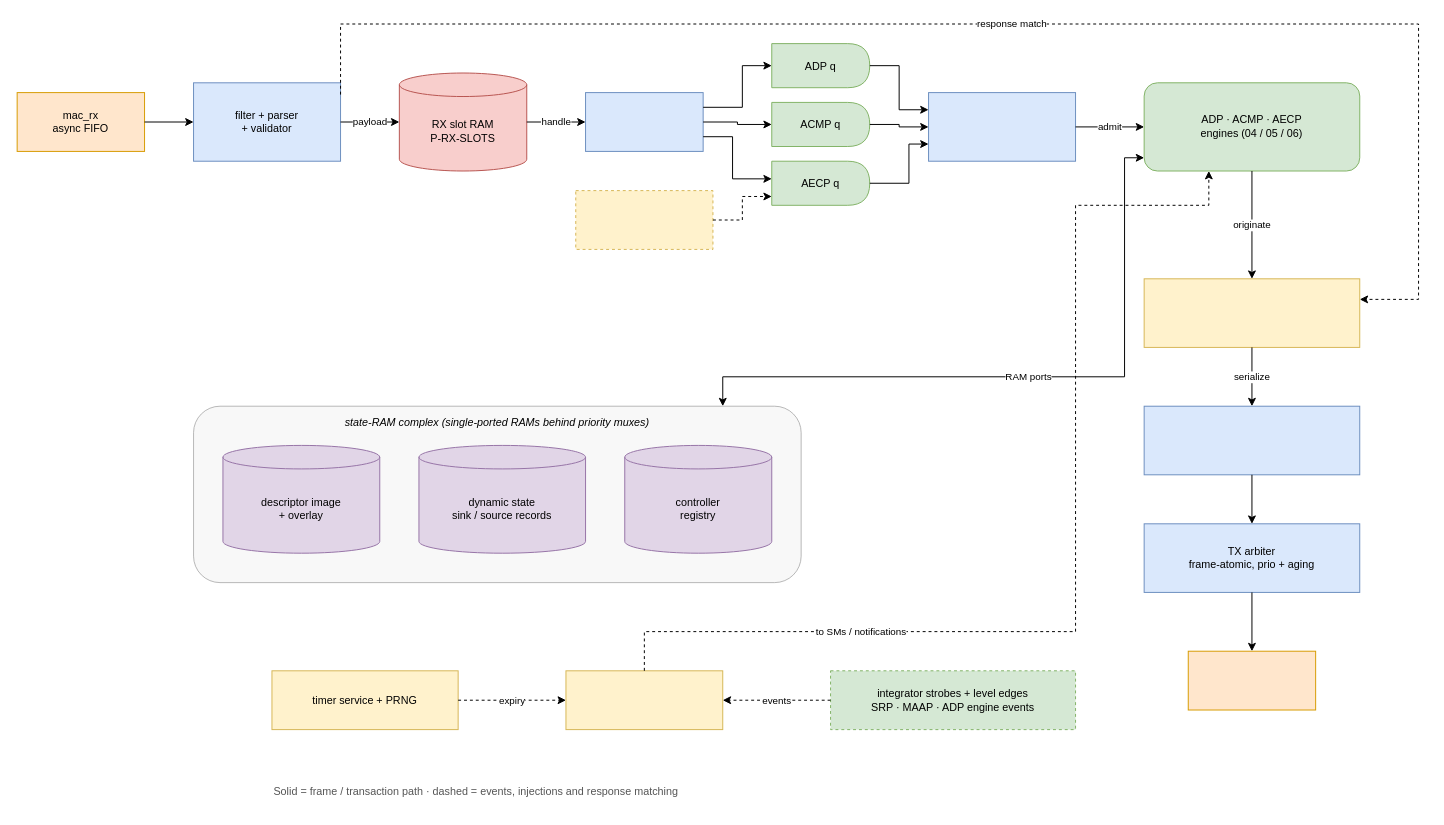
Image size: 1444x825. Some labels were removed from this diagram. Each missing label, with the centre of its shape:
event router: the point at 644,700
injection ports TIMER · SELF · MGMT: the point at 644,219
mac_tx async FIFO: the point at 1251,680
normalizer: the point at 644,121
originator + inflight table: the point at 1251,312
response builders TX slots (std + oversize): the point at 1251,440
scoreboard class / key admission: the point at 1002,126
